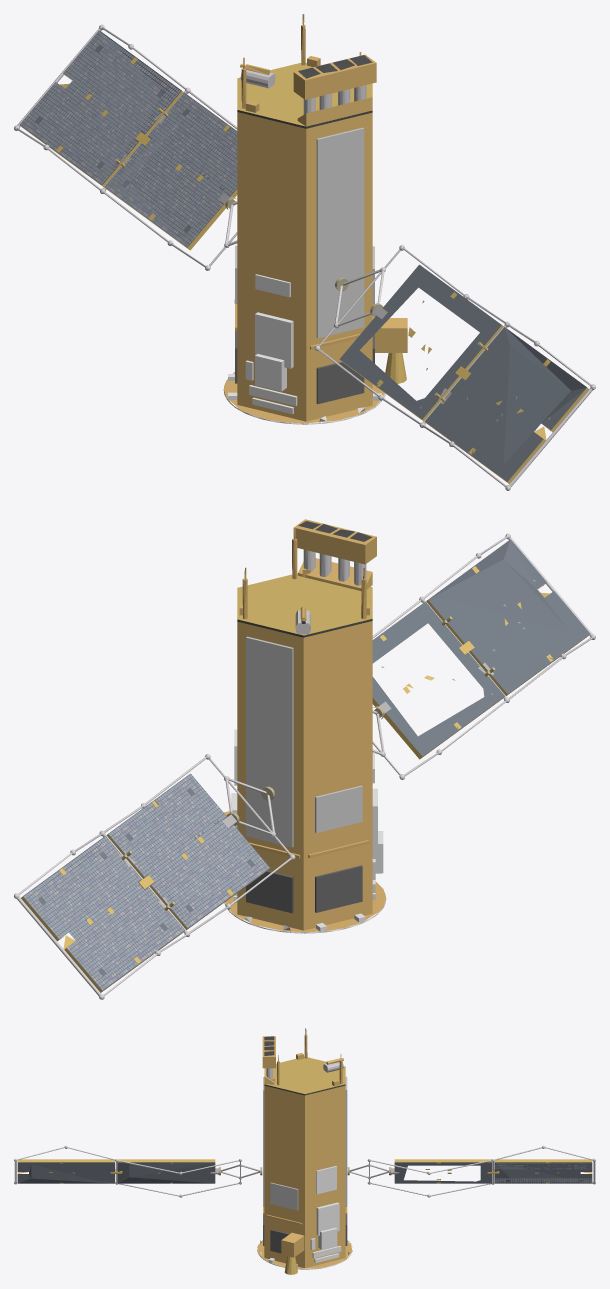
Rendered from oco2.glb.
The picture shows the model from 3 angles, top to bottom: view 1: azimuth 30°, elevation 25°; view 2: azimuth 150°, elevation 25°; view 3: azimuth 270°, elevation 25°; orthographic projection. The views are drawn at different scales.
Visible parts, largest first — view 1: Layer_0; view 2: Layer_0; view 3: Layer_0.
Part boxes in pixels (x1=…): Layer_0: x1=14, y1=14, x2=595, y2=490; Layer_0: x1=14, y1=519, x2=595, y2=999; Layer_0: x1=14, y1=1028, x2=595, y2=1274.
Size of the model in its own units: 7.63 by 15.42 by 39.86.
